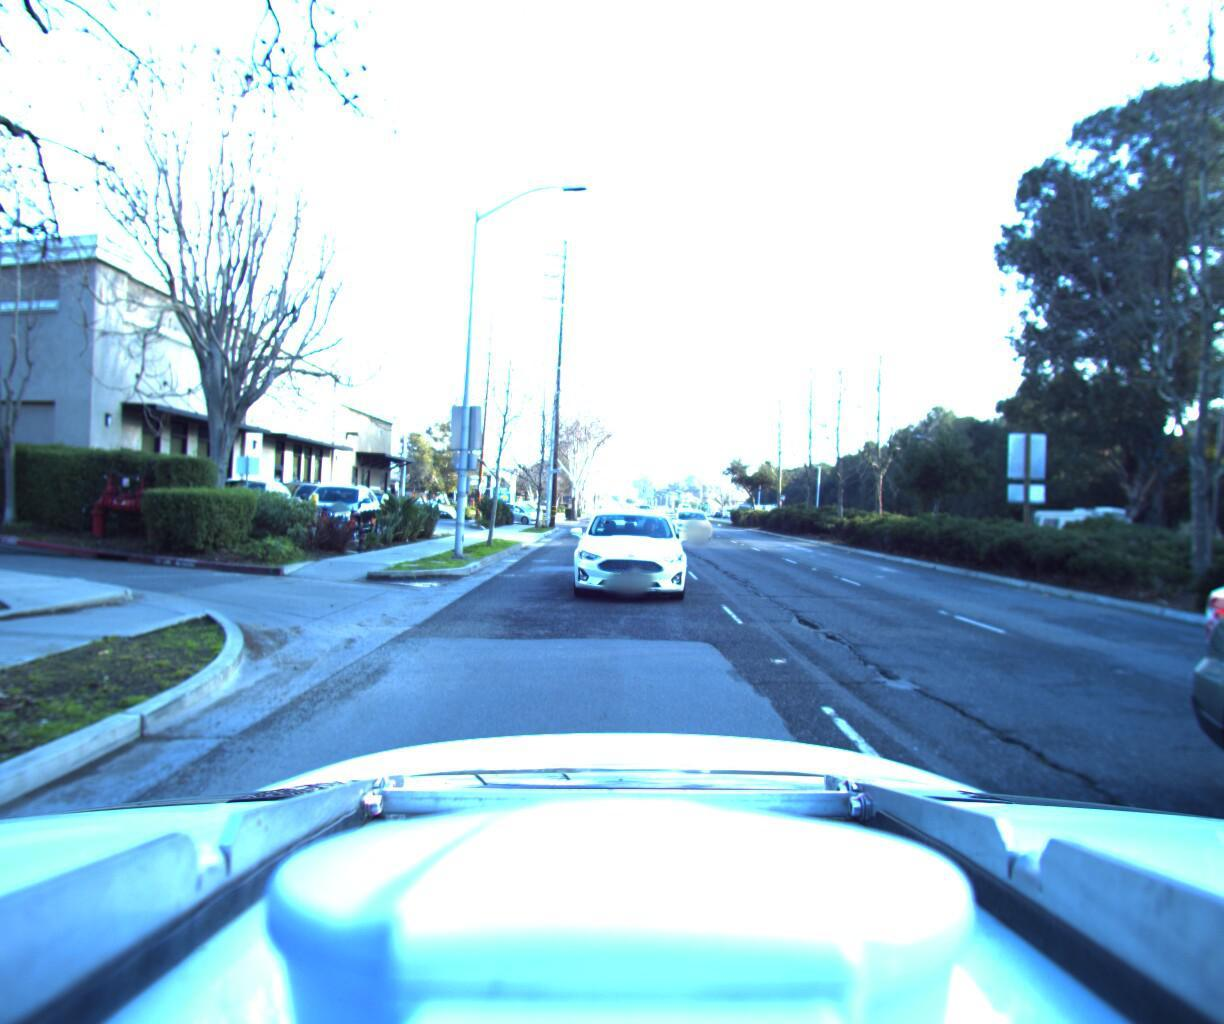car: (572, 498, 690, 603), (277, 471, 390, 538), (254, 467, 351, 525), (669, 499, 714, 534), (484, 494, 546, 518)
other_vehicle: (1023, 495, 1137, 551)
